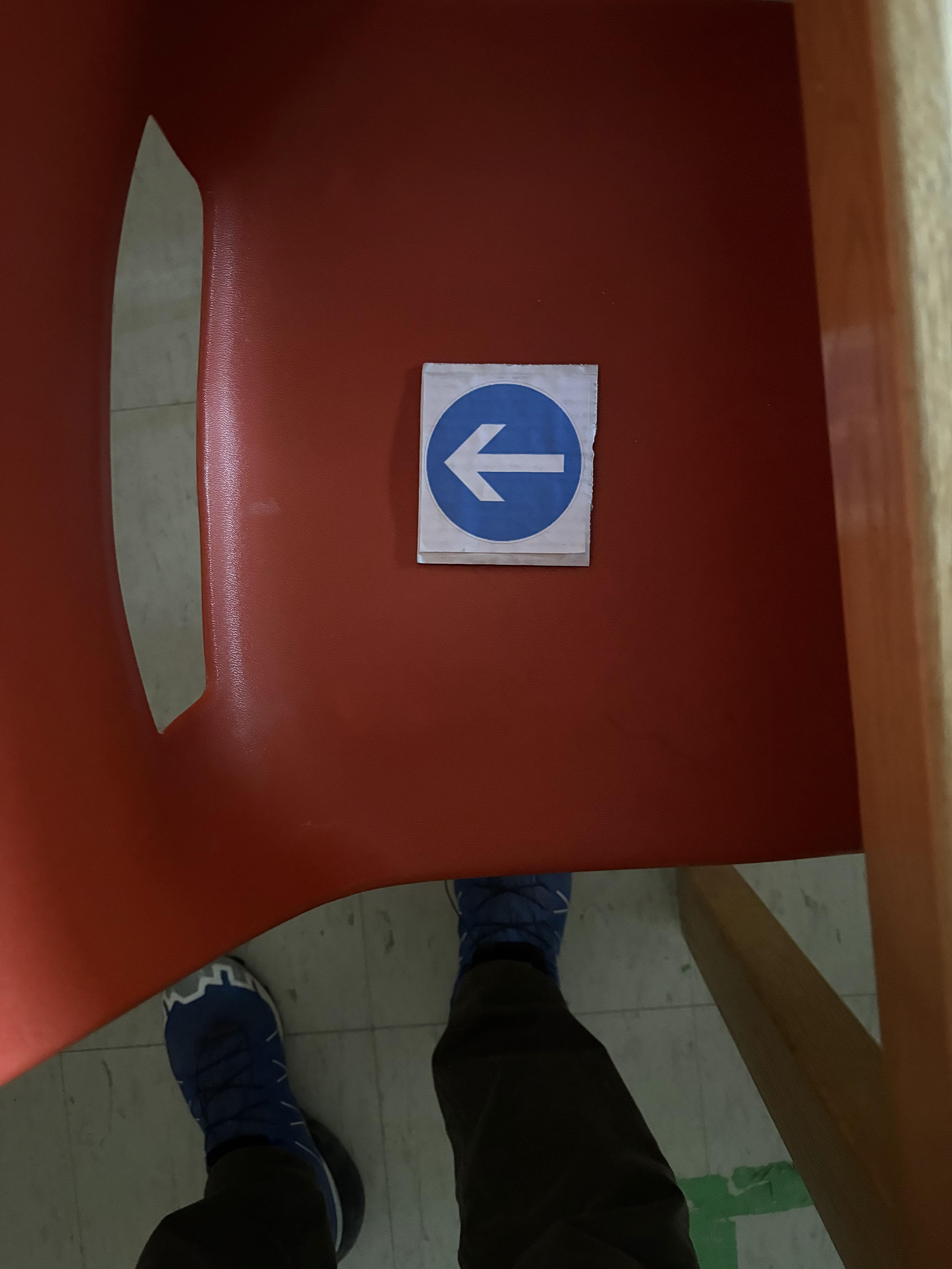Proceed Left: (417, 362, 599, 571)
